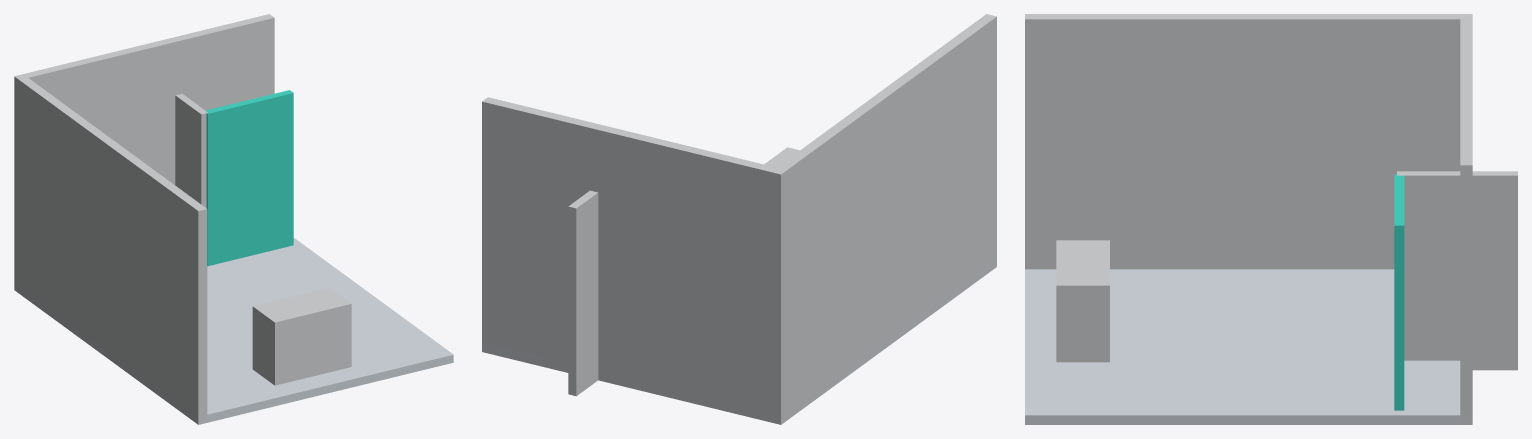
3 views of the same model, side by side, from view 1: azimuth 30°, elevation 25°; view 2: azimuth 150°, elevation 25°; view 3: azimuth 270°, elevation 25° (orthographic). The views are drawn at different scales.
Parts seen in each view (by area): view 1: Exhibition Booth Concept; view 2: Exhibition Booth Concept; view 3: Exhibition Booth Concept.
Boxes of the visible parts, bbox=[...] form: Exhibition Booth Concept: bbox=[14, 14, 453, 424]; Exhibition Booth Concept: bbox=[482, 14, 996, 424]; Exhibition Booth Concept: bbox=[1025, 14, 1517, 424].
Bounding box in the file's own units: 4 × 3.2 × 5.51.
